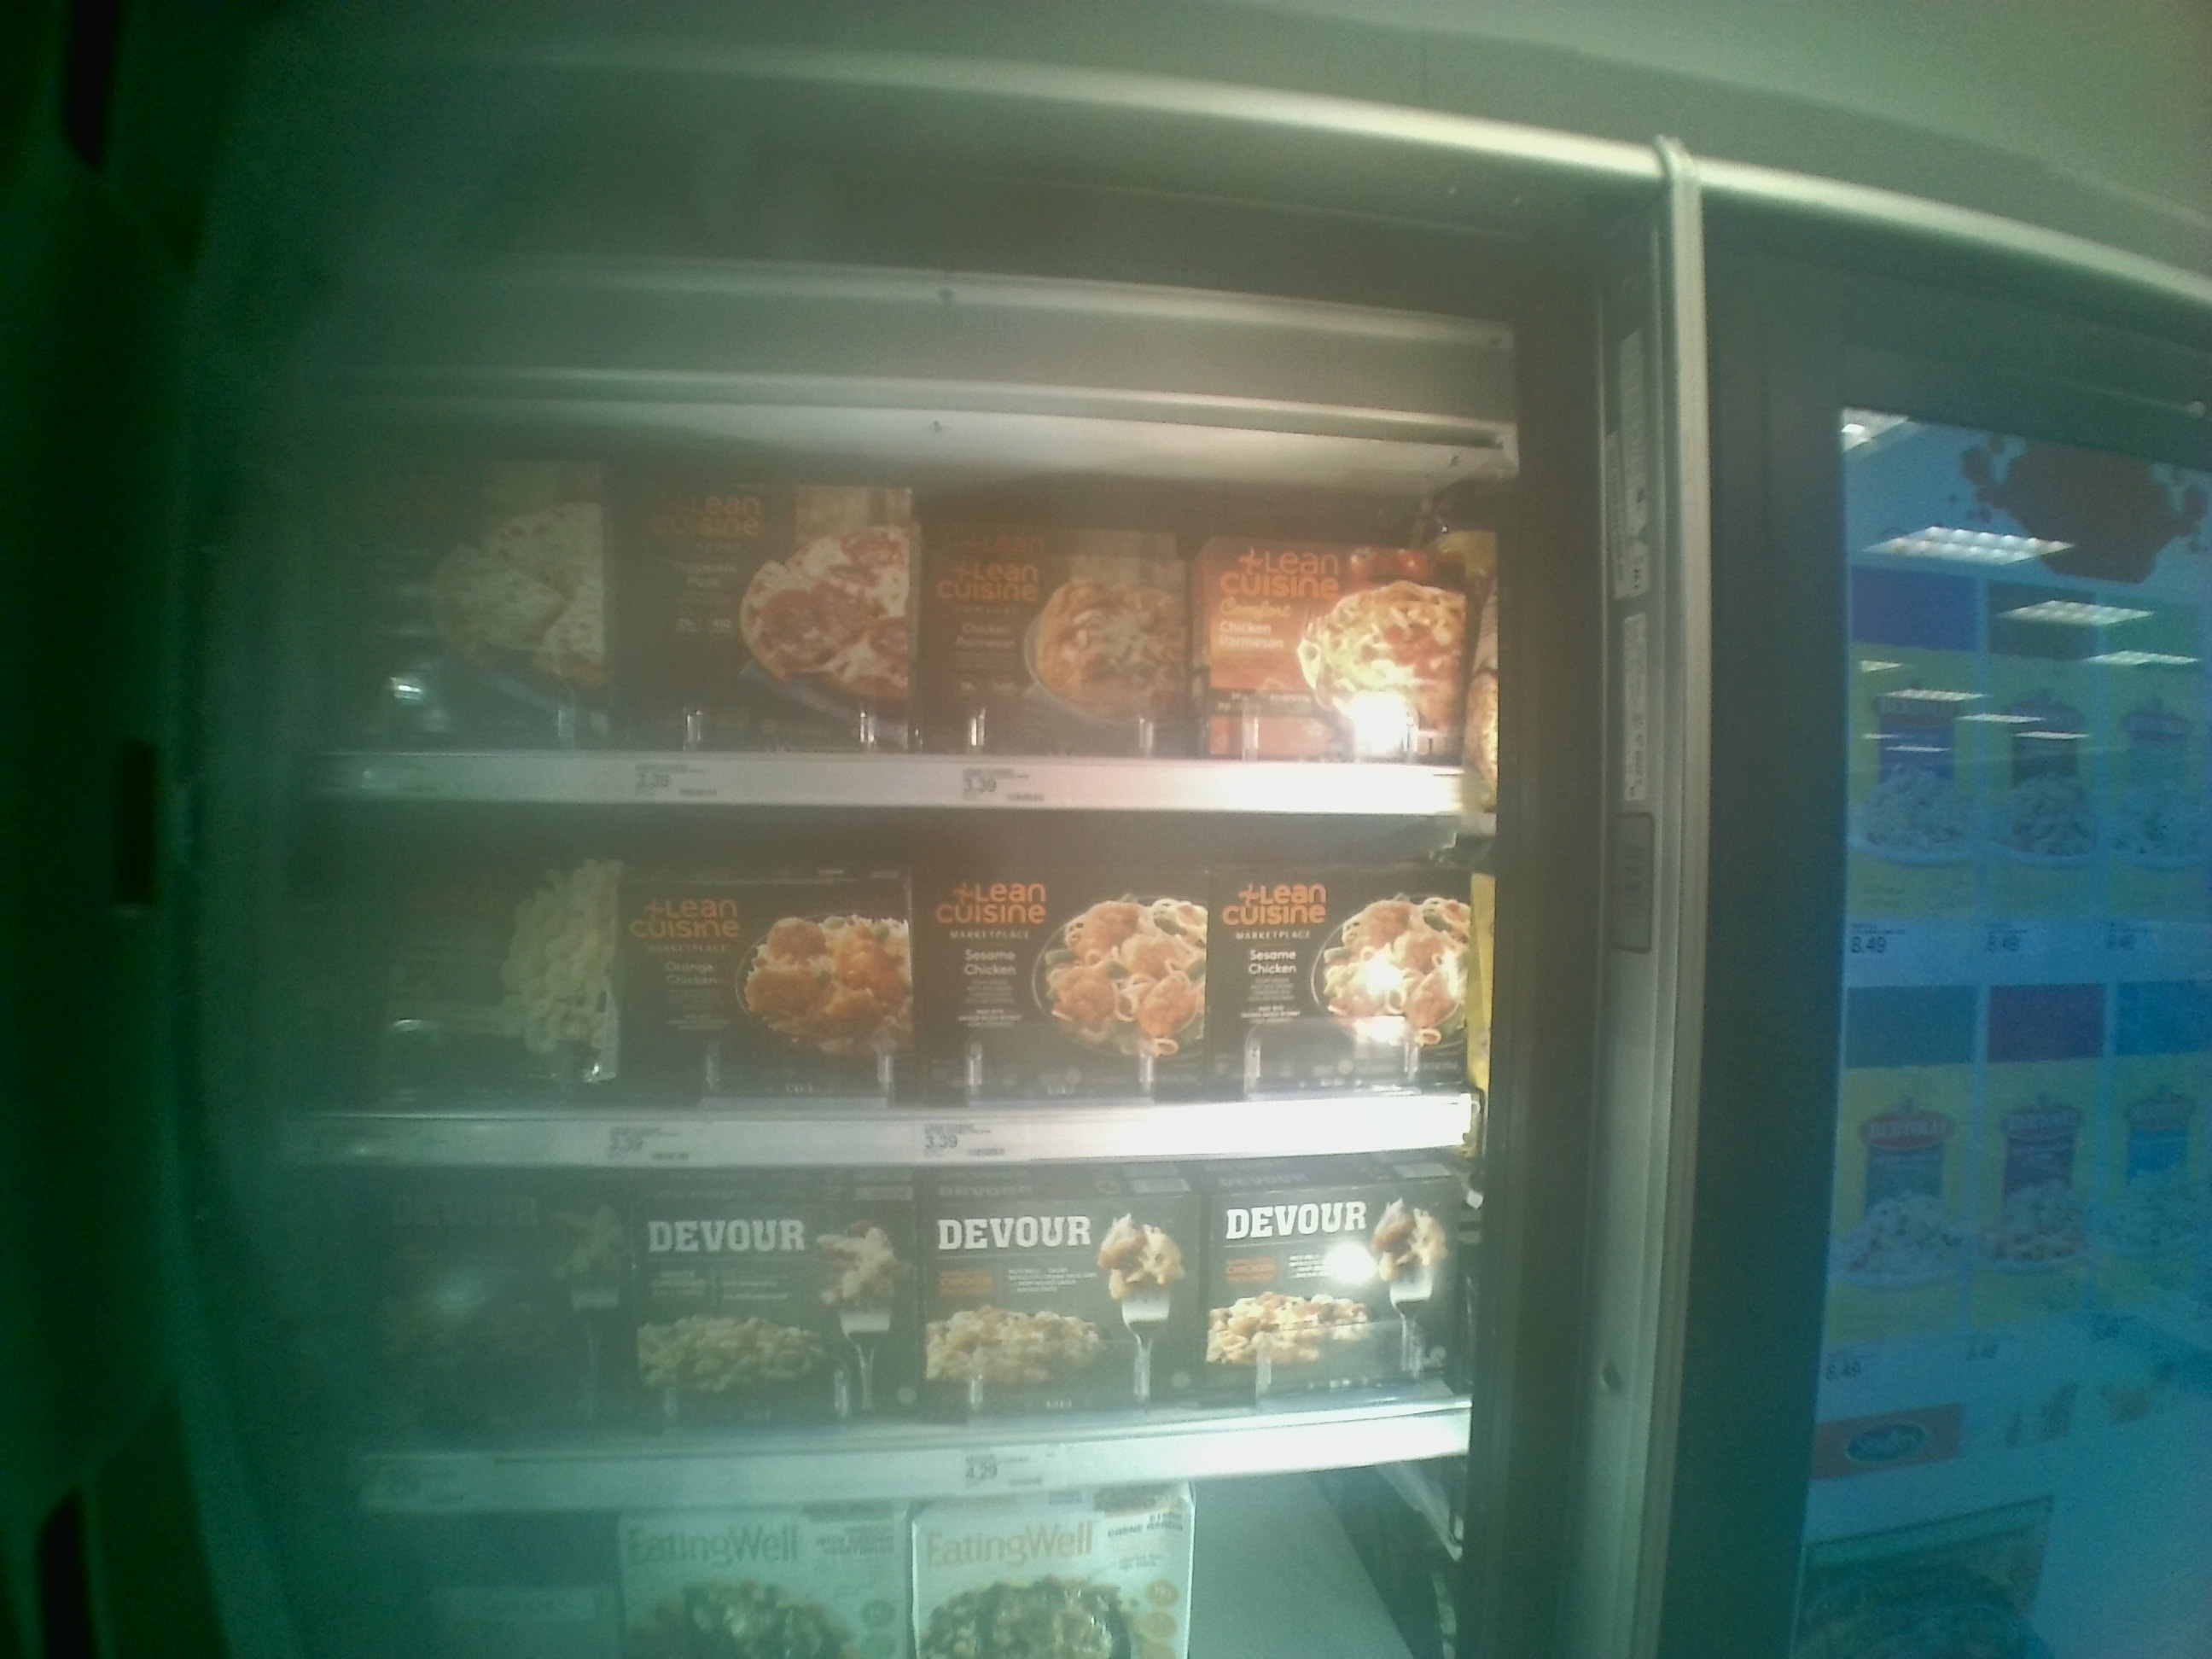shelf: (320, 401, 1460, 819), (307, 802, 1484, 1168), (315, 1161, 1480, 1514)
